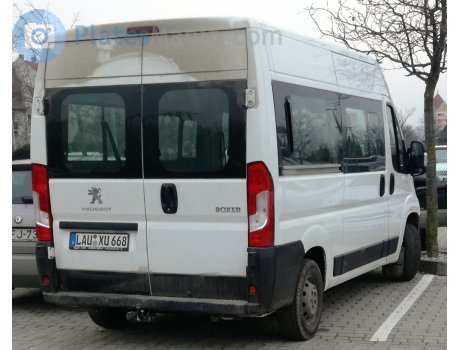License Plates: (75, 232, 126, 246)
